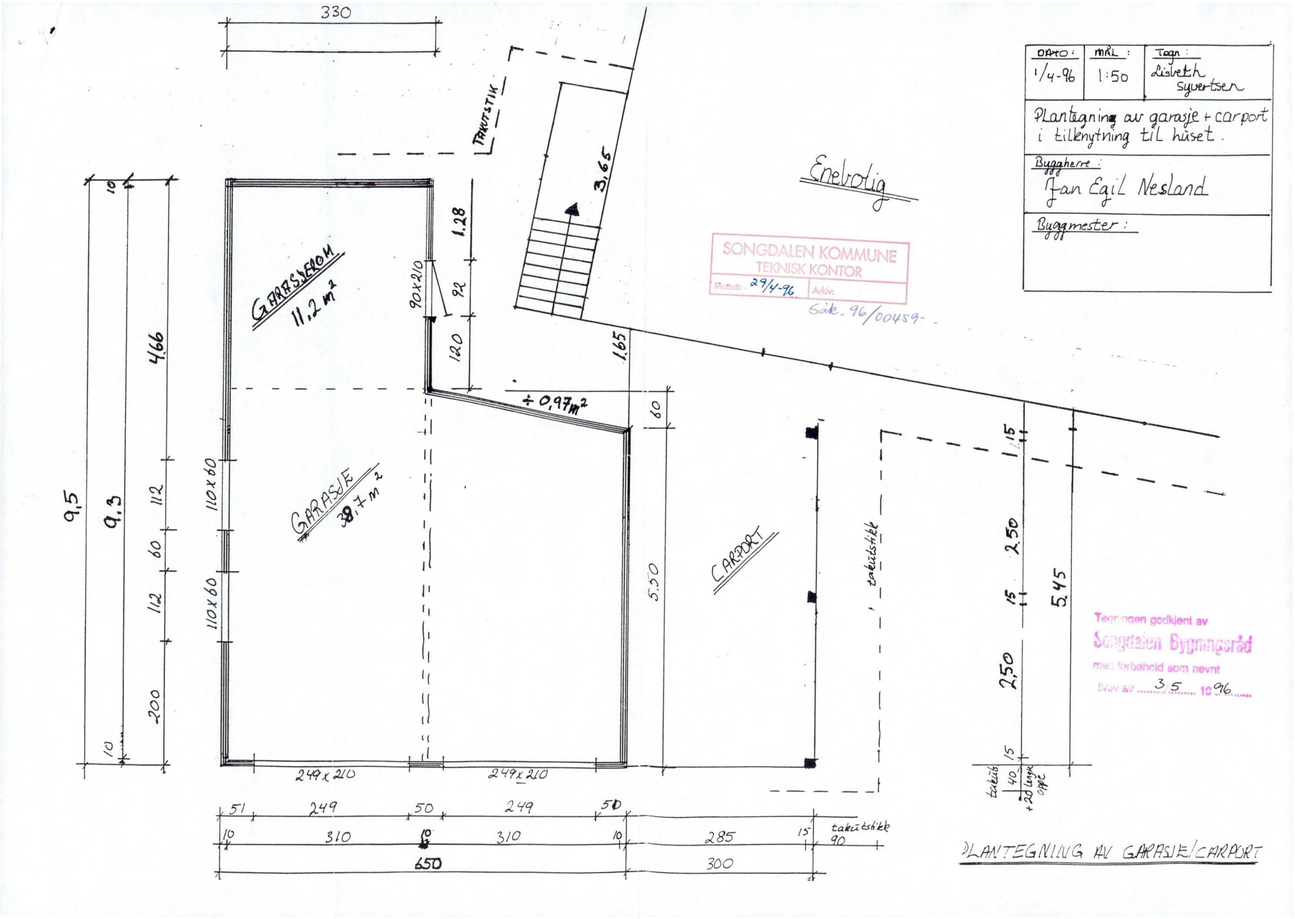plantegning: (181, 164, 848, 795)
